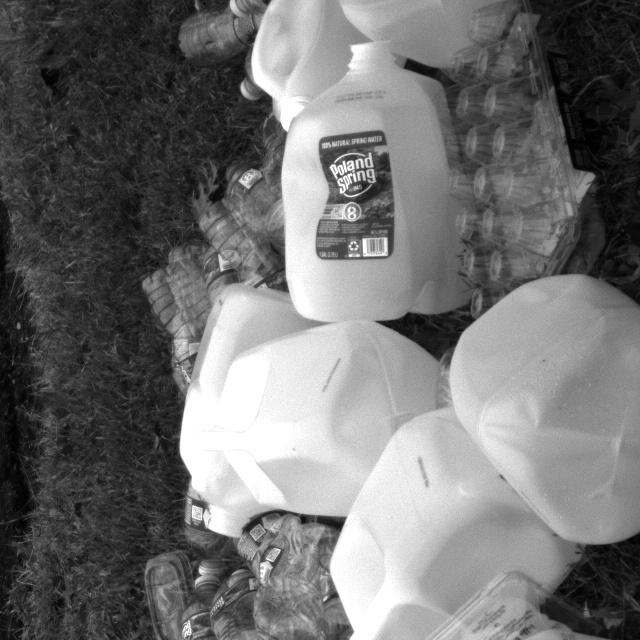bottle: (218, 159, 283, 250), (174, 6, 262, 64)
can: (328, 403, 588, 640), (278, 36, 472, 326), (438, 278, 640, 548), (219, 319, 455, 519), (171, 285, 316, 534), (243, 0, 385, 127), (336, 0, 544, 71)
container: (446, 0, 607, 334), (143, 550, 194, 640)
